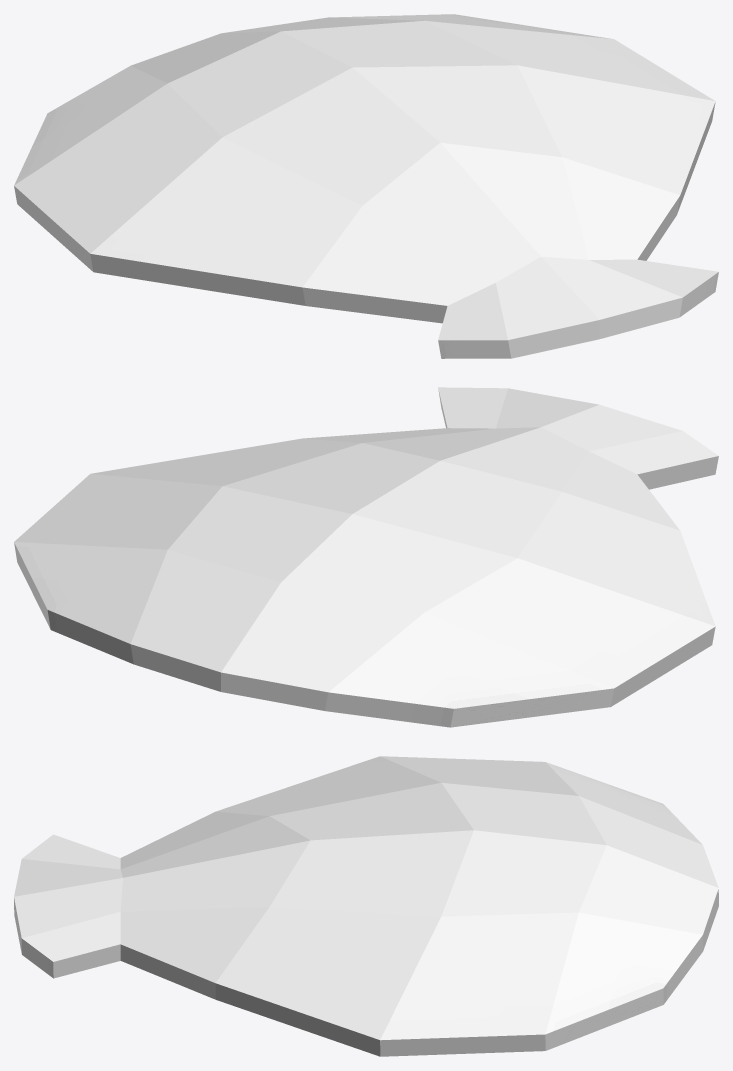
File: BigFanShell.obj
3 renders of one model, top to bottom at view 1: azimuth 30°, elevation 25°; view 2: azimuth 150°, elevation 25°; view 3: azimuth 270°, elevation 25°, orthographic. The views are drawn at different scales.
Visible parts, largest first — view 1: FanShell_FanShellMesh; view 2: FanShell_FanShellMesh; view 3: FanShell_FanShellMesh.
Part boxes in pixels (bbox=[...]): FanShell_FanShellMesh: bbox=[14, 14, 718, 358]; FanShell_FanShellMesh: bbox=[14, 387, 718, 727]; FanShell_FanShellMesh: bbox=[14, 756, 718, 1056].
Bounding box in the file's own units: 0.2667 × 0.039 × 0.2797.
Materials: 1 (1 with a texture image).
